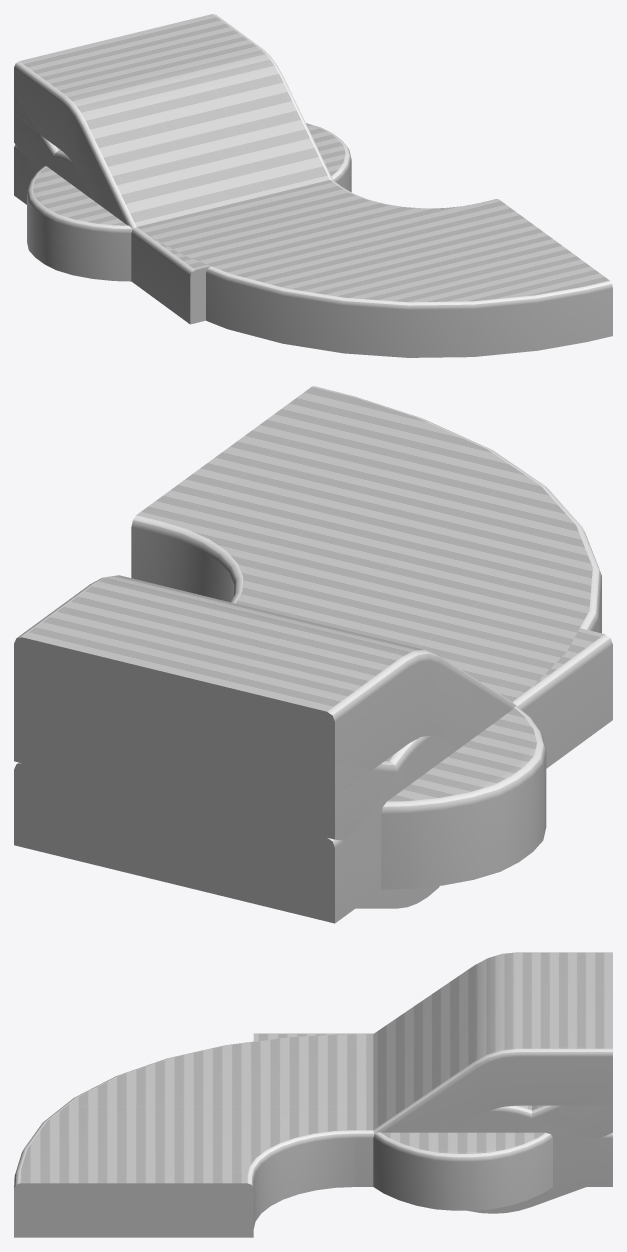
The model's file is Floor_2x4_SoftEdge_thick.fbx.
3 views of the same model, one above another, from view 1: azimuth 30°, elevation 25°; view 2: azimuth 150°, elevation 25°; view 3: azimuth 270°, elevation 25° (orthographic). The views are drawn at different scales.
Parts seen in each view (by area): view 1: Floor_2x4_SE_T_rotate, Floor_2x4_SE_T_ramp1, Floor_2x4_SE_T_circle, Floor_2x4_SE_T_main, Floor_2x4_SE_T_hill, Floor_2x4_SE_T_ramp2, Floor_2x4_SE_T_deep1; view 2: Floor_2x4_SE_T_rotate, Floor_2x4_SE_T_ramp1, Floor_2x4_SE_T_hill, Floor_2x4_SE_T_circle, Floor_2x4_SE_T_deep1, Floor_2x4_SE_T_ramp2, Floor_2x4_SE_T_main, Floor_2x4_SE_T_deep2; view 3: Floor_2x4_SE_T_rotate, Floor_2x4_SE_T_ramp1, Floor_2x4_SE_T_circle, Floor_2x4_SE_T_hill, Floor_2x4_SE_T_ramp2, Floor_2x4_SE_T_deep1, Floor_2x4_SE_T_main.
Part boxes in pixels (bbox=[...]): Floor_2x4_SE_T_rotate: bbox=[137, 180, 612, 357]; Floor_2x4_SE_T_ramp1: bbox=[14, 14, 332, 229]; Floor_2x4_SE_T_circle: bbox=[27, 123, 351, 281]; Floor_2x4_SE_T_main: bbox=[131, 227, 210, 324]; Floor_2x4_SE_T_hill: bbox=[14, 144, 91, 204]; Floor_2x4_SE_T_ramp2: bbox=[14, 96, 331, 232]; Floor_2x4_SE_T_deep1: bbox=[14, 151, 36, 203]; Floor_2x4_SE_T_rotate: bbox=[131, 386, 601, 701]; Floor_2x4_SE_T_ramp1: bbox=[14, 575, 517, 797]; Floor_2x4_SE_T_hill: bbox=[14, 728, 468, 922]; Floor_2x4_SE_T_circle: bbox=[381, 706, 546, 889]; Floor_2x4_SE_T_deep1: bbox=[14, 765, 439, 923]; Floor_2x4_SE_T_ramp2: bbox=[14, 704, 518, 844]; Floor_2x4_SE_T_main: bbox=[513, 628, 612, 768]; Floor_2x4_SE_T_deep2: bbox=[14, 763, 381, 917]; Floor_2x4_SE_T_rotate: bbox=[14, 1034, 373, 1237]; Floor_2x4_SE_T_ramp1: bbox=[373, 952, 612, 1133]; Floor_2x4_SE_T_circle: bbox=[373, 1132, 552, 1210]; Floor_2x4_SE_T_hill: bbox=[416, 1105, 612, 1186]; Floor_2x4_SE_T_ramp2: bbox=[373, 1086, 612, 1158]; Floor_2x4_SE_T_deep1: bbox=[467, 1138, 612, 1213]; Floor_2x4_SE_T_main: bbox=[253, 1033, 373, 1186].
Bounding box in the file's own units: 694 × 299 × 1000.
